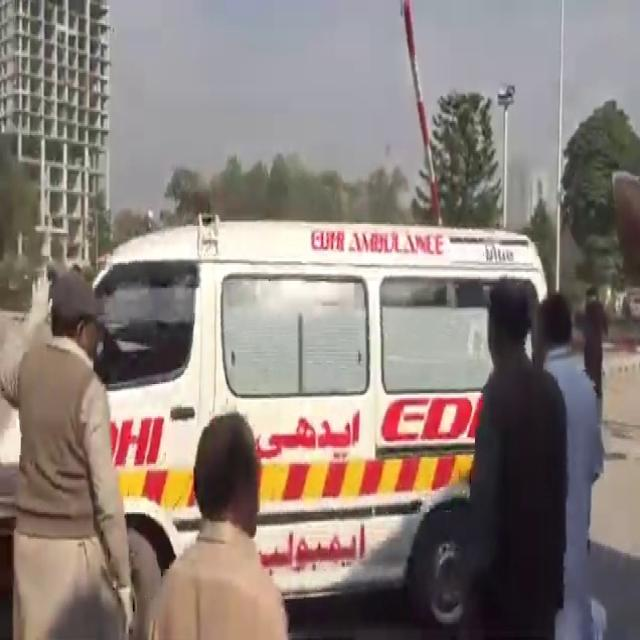ambulance: (48, 226, 544, 623)
